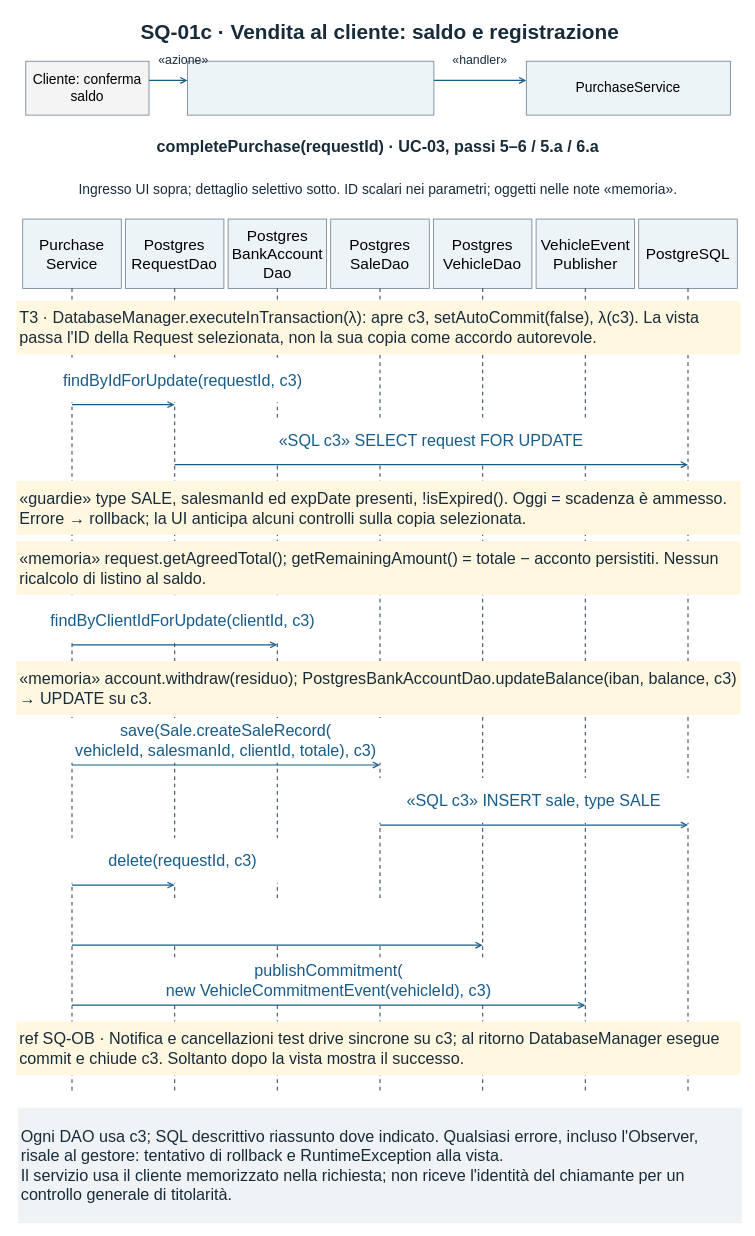
Image size: 755x1236. Some labels were removed from this diagram. The shapes that lost their labels are listed below. From the top down, each one's centre as x and y in pixels, then its label:
At point 310,87: "ClientDashboardView handleCompletePurchaseAction()".
At point 277,920: "updateStateAtomically(vehicleId, BLOCKED, SOLD, c3)".
